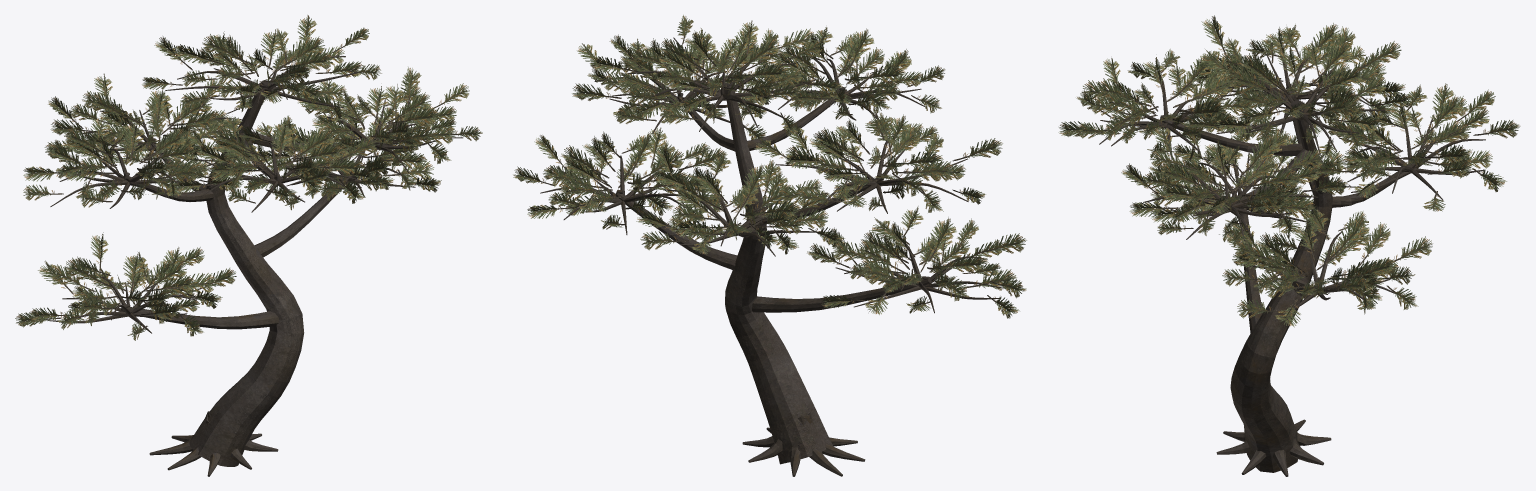
The model's file is pine-lod.glb.
The picture shows the model from 3 angles, left to right: view 1: azimuth 30°, elevation 25°; view 2: azimuth 150°, elevation 25°; view 3: azimuth 270°, elevation 25°; orthographic projection. The views are drawn at different scales.
Parts seen in each view (by area): view 1: pine-lod_BranchFans, pine-lod_CurvedTrunk; view 2: pine-lod_BranchFans, pine-lod_CurvedTrunk; view 3: pine-lod_BranchFans, pine-lod_CurvedTrunk.
Boxes of the visible parts, x1=… form: pine-lod_BranchFans: x1=15, y1=15, x2=482, y2=340; pine-lod_CurvedTrunk: x1=47, y1=56, x2=463, y2=476; pine-lod_BranchFans: x1=513, y1=15, x2=1026, y2=318; pine-lod_CurvedTrunk: x1=540, y1=37, x2=1003, y2=476; pine-lod_BranchFans: x1=1058, y1=15, x2=1520, y2=327; pine-lod_CurvedTrunk: x1=1099, y1=53, x2=1485, y2=476.
Bounding box in the file's own units: 9.2 × 8 × 7.69.
Materials: 2 (2 with a texture image).
